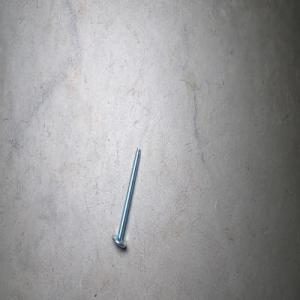Bolt: (110, 146, 141, 248)
